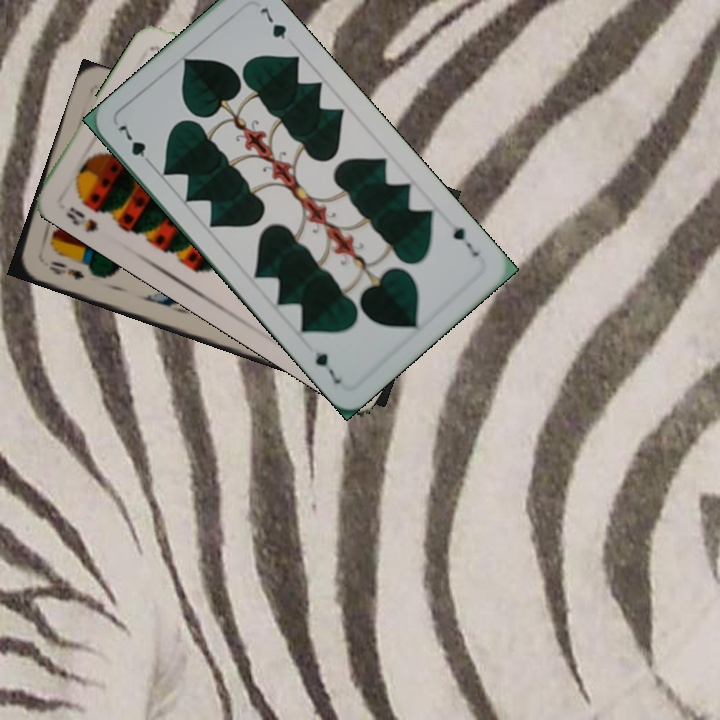EO: (45, 256, 87, 282)
G7: (114, 118, 156, 170), (448, 222, 482, 260)
S8: (62, 202, 101, 236)
